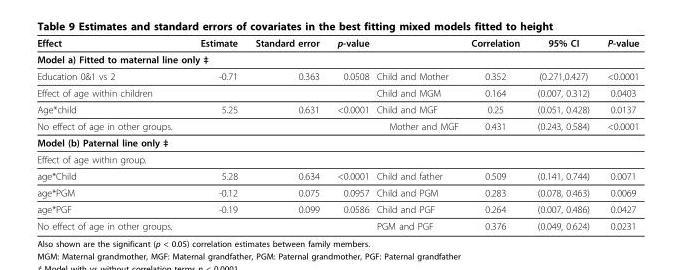table: (36, 36, 638, 231)
table column: (36, 36, 185, 231), (372, 36, 464, 231), (245, 36, 327, 231), (527, 36, 597, 231), (464, 36, 527, 231), (185, 36, 245, 231), (327, 36, 372, 231), (597, 36, 638, 231)
table column header: (36, 36, 638, 50)
table projected row header: (36, 50, 638, 67), (36, 150, 638, 167), (36, 134, 638, 150)
table row: (36, 50, 638, 67), (36, 67, 638, 84), (36, 100, 638, 117), (36, 117, 638, 134), (36, 150, 638, 167), (36, 183, 638, 200), (36, 200, 638, 217), (36, 84, 638, 100), (36, 134, 638, 150), (36, 167, 638, 183), (36, 36, 638, 50), (36, 217, 638, 231)
